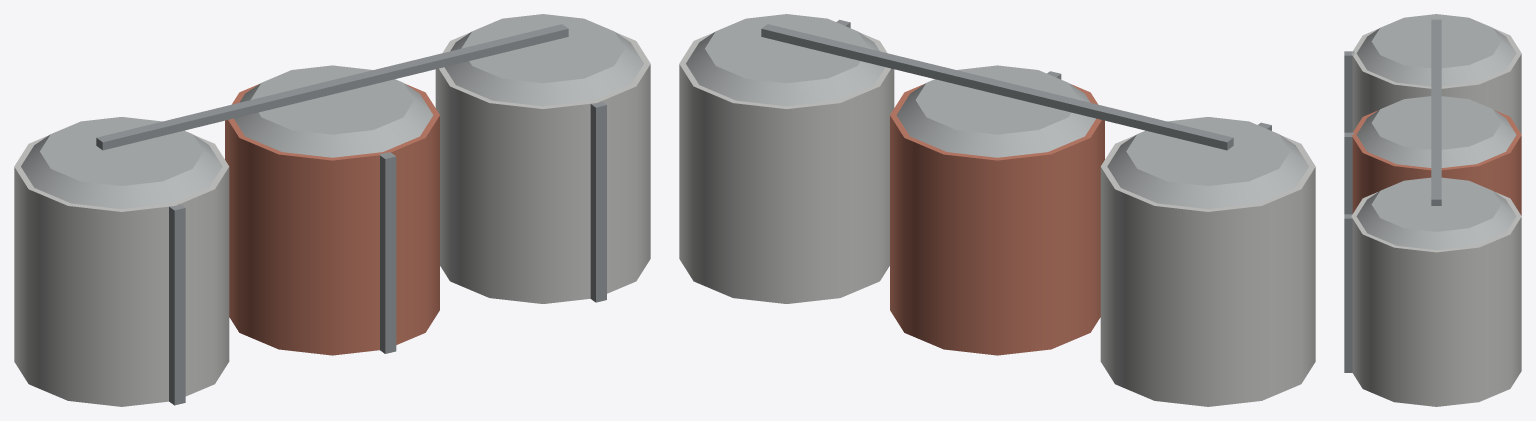
The picture shows the model from 3 angles, left to right: view 1: azimuth 30°, elevation 25°; view 2: azimuth 150°, elevation 25°; view 3: azimuth 270°, elevation 25°; orthographic projection. The views are drawn at different scales.
Parts seen in each view (by area): view 1: Visual; view 2: Visual; view 3: Visual.
Part boxes in pixels (<box>): Visual: <box>14,14,650,406</box>; Visual: <box>679,14,1315,406</box>; Visual: <box>1344,14,1521,406</box>.
Size of the model in its own units: 27.4 by 9.78 by 8.75.
